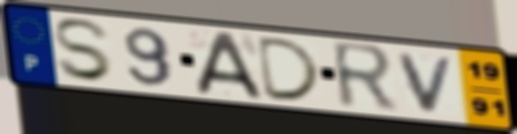9: (122, 26, 177, 89)
A: (193, 31, 267, 100)
D: (255, 35, 326, 103)
R: (328, 39, 401, 115)
S: (50, 17, 116, 84)
V: (395, 52, 459, 116)
